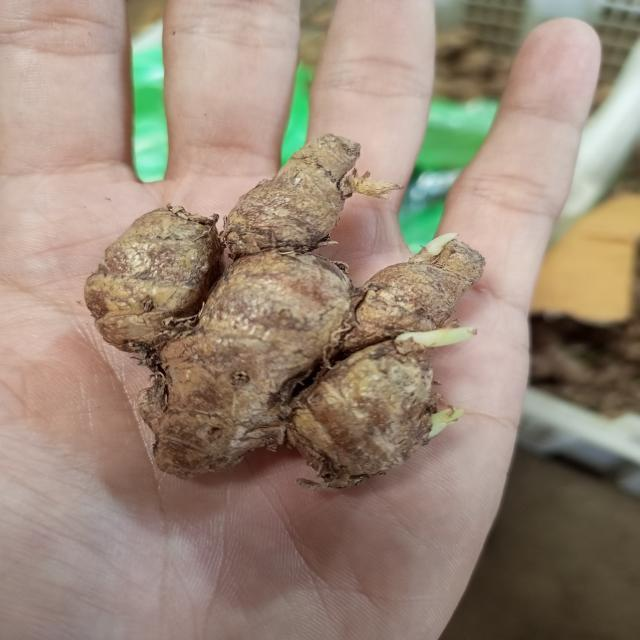ginger: (106, 132, 456, 462)
